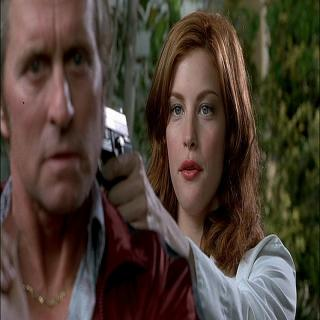gun: (96, 89, 144, 186)
